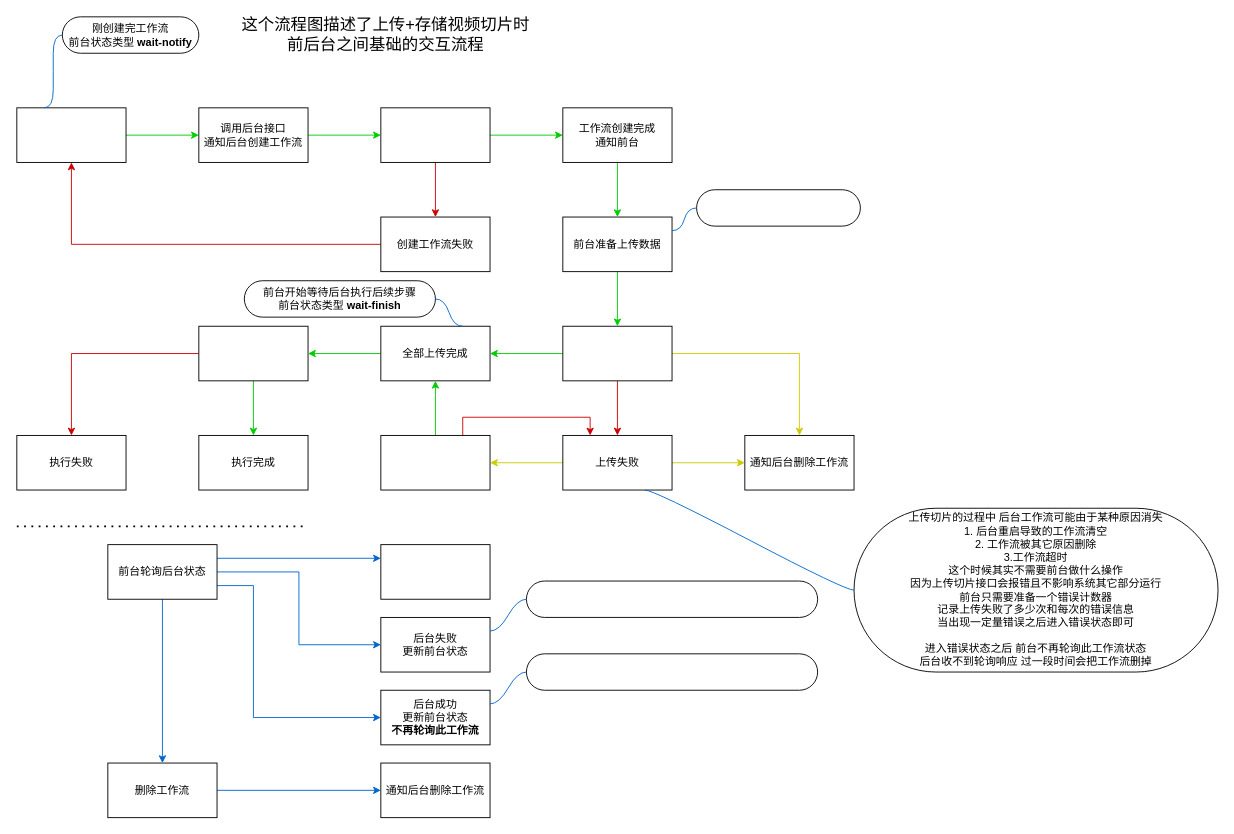
This 1234x834 diagram has some shape labels left out. Here are the shapes that lost their labels. From the top down, the centre of each, then its label:
At (x=71, y=134): "前台创建工作流".
At (x=435, y=134): "后台创建工作流".
At (x=778, y=207): "已经告知后台 前台状态类型 wait-upload".
At (x=253, y=353): "后台继续 执行后续步骤".
At (x=617, y=353): "上传切片".
At (x=435, y=462): "重试上传切片".
At (x=435, y=571): "后台未完成 更新前台状态".
At (x=672, y=598): "执行失败 这个状态下的前台工作流不需要更新状态 前台状态类型 error".
At (x=672, y=671): "执行完成 这个状态下的前台工作流不需要更新状态 前台状态类型 finish".
